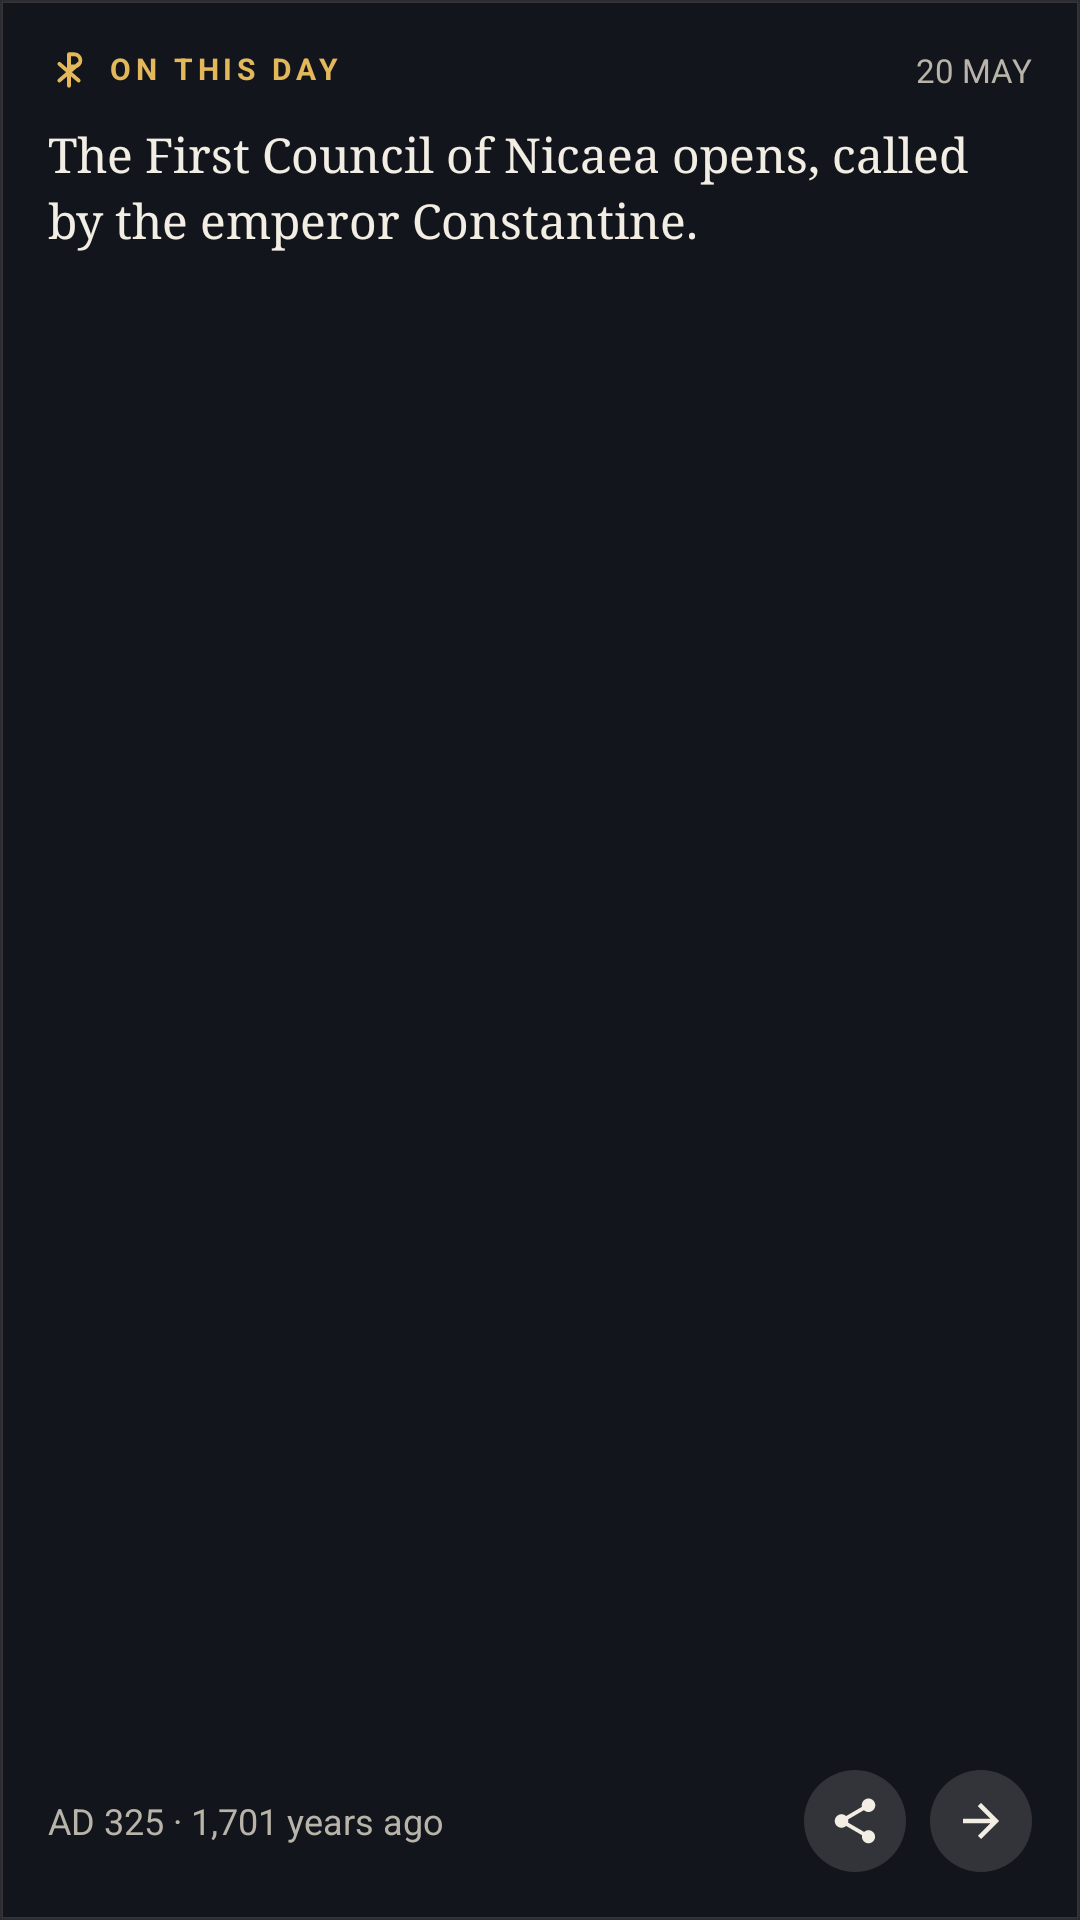

Named icons in this screenshot (1080 x 1920) and their bounding boxes, rect(x1, y1, x2, y2):
Next: rect(930, 1770, 1032, 1872)
Share: rect(804, 1770, 906, 1872)
